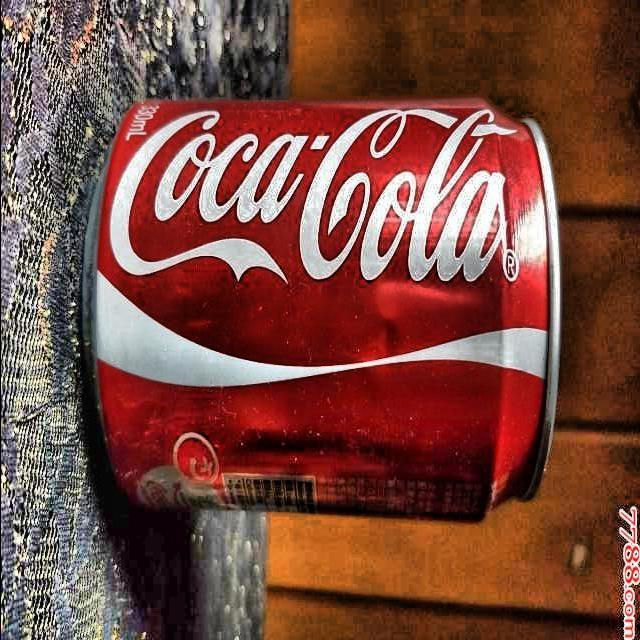Aluminum Can: (65, 85, 573, 535)
